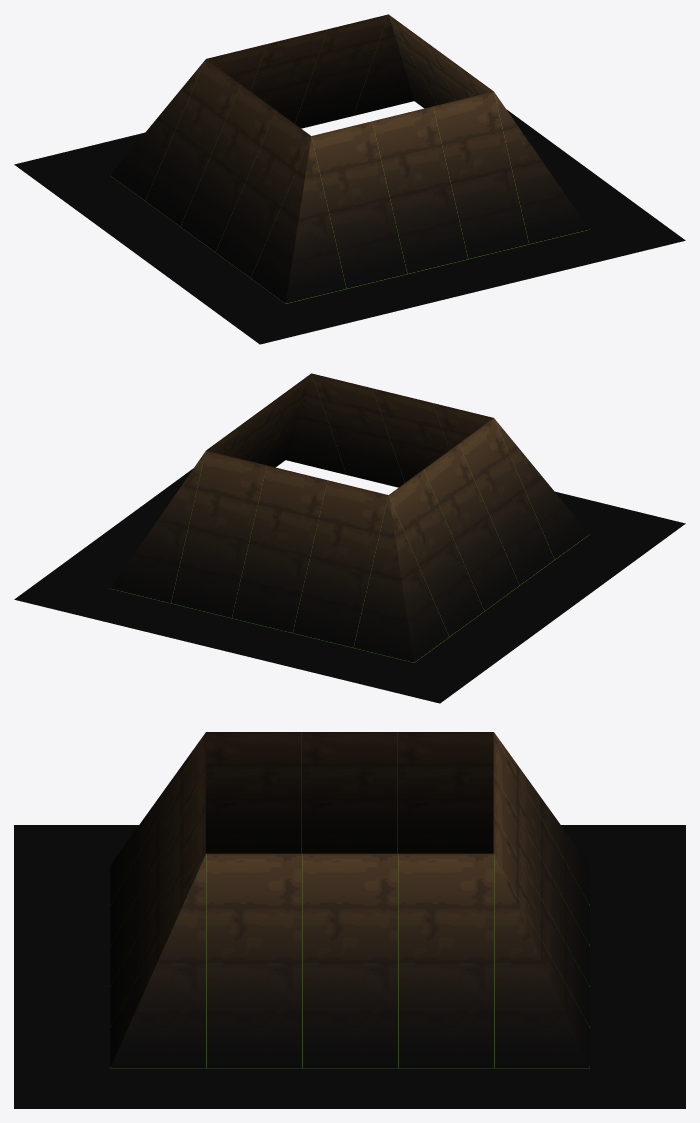
Rendered from wallBottom_isle.FBX.
3 views of the same model, one above another, from view 1: azimuth 30°, elevation 25°; view 2: azimuth 150°, elevation 25°; view 3: azimuth 270°, elevation 25° (orthographic). The views are drawn at different scales.
Parts seen in each view (by area): view 1: wallBottom_isle; view 2: wallBottom_isle; view 3: wallBottom_isle.
Boxes of the visible parts, <box> form: wallBottom_isle: <box>14,14,685,344</box>; wallBottom_isle: <box>14,373,685,703</box>; wallBottom_isle: <box>14,732,685,1108</box>.
Bounding box in the file's own units: 14 × 4 × 14.
